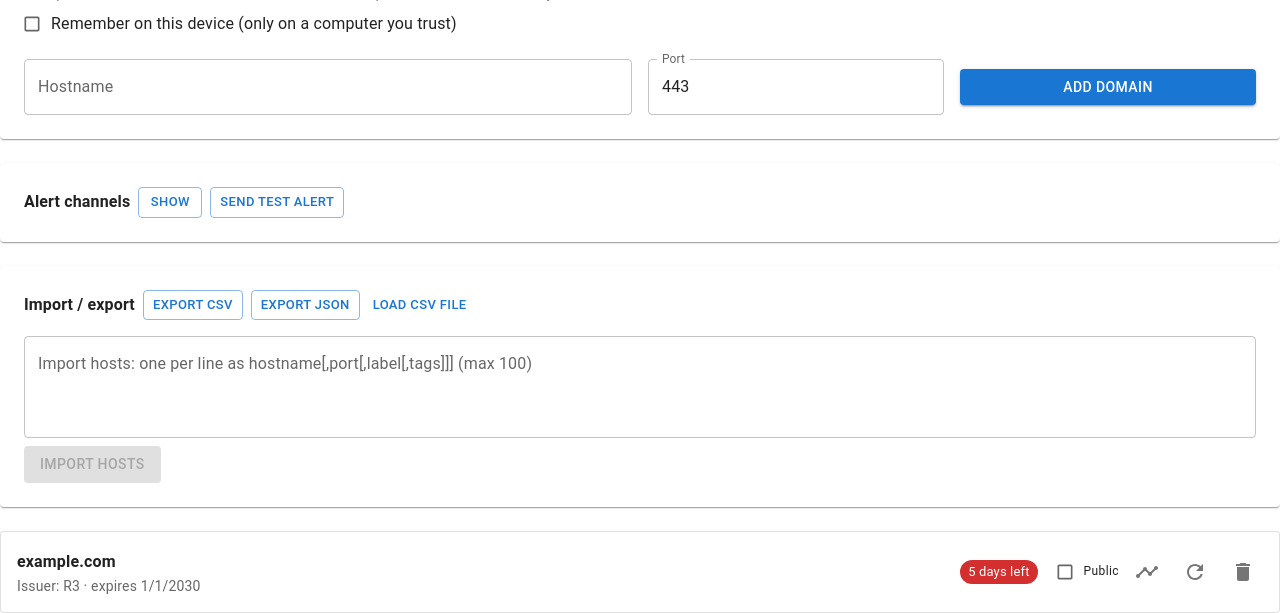
opens the expiry history for a domain
(page scrolled)
Click the button named "History for example.com".
click(1147, 572)  # box [1127,552,1167,592]
(page scrolled)
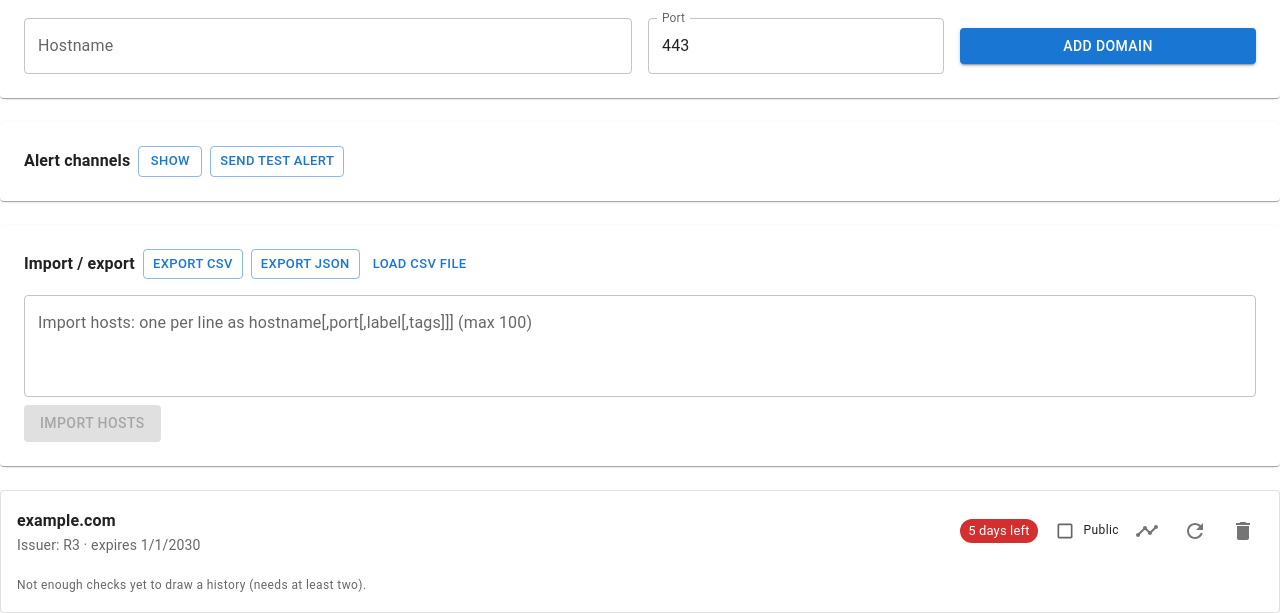
Now the text "at least two" is shown, box [17,578,366,592]
